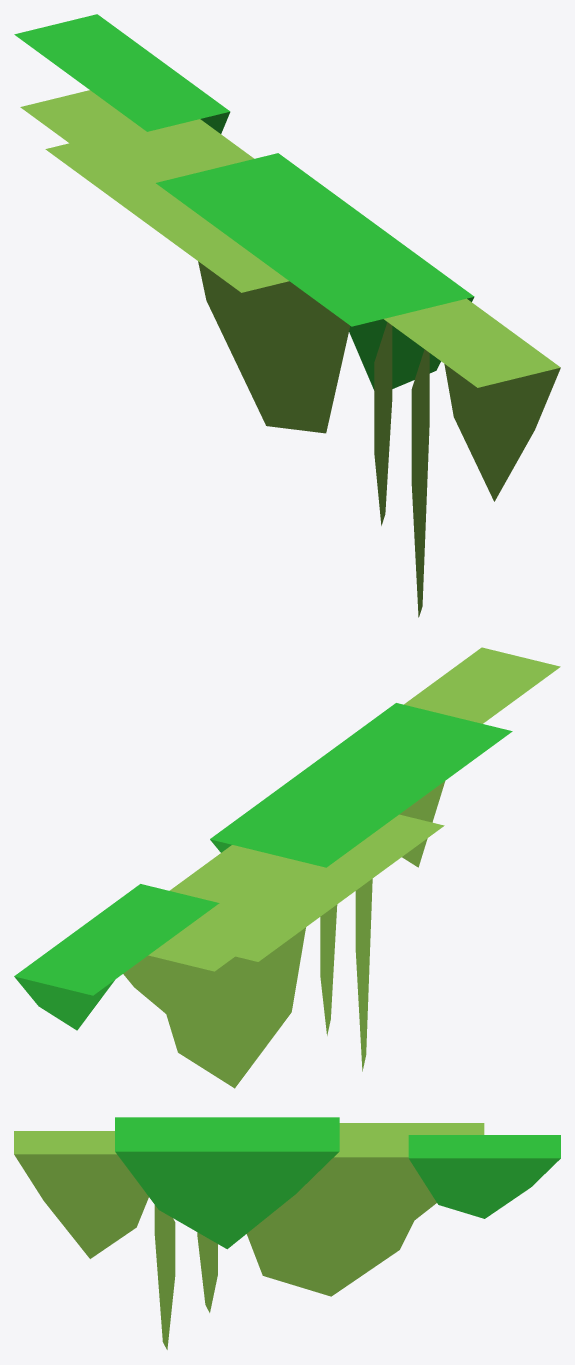
The model's file is plant.fbx.
3 views of the same model, one above another, from view 1: azimuth 30°, elevation 25°; view 2: azimuth 150°, elevation 25°; view 3: azimuth 270°, elevation 25° (orthographic). The views are drawn at different scales.
Parts seen in each view (by area): view 1: Plane049; view 2: Plane049; view 3: Plane049.
Part boxes in pixels (bbox=[...]): Plane049: bbox=[14, 14, 560, 617]; Plane049: bbox=[14, 647, 560, 1088]; Plane049: bbox=[14, 1117, 560, 1349].
Bounding box in the file's own units: 27.94 × 60.92 × 149.
